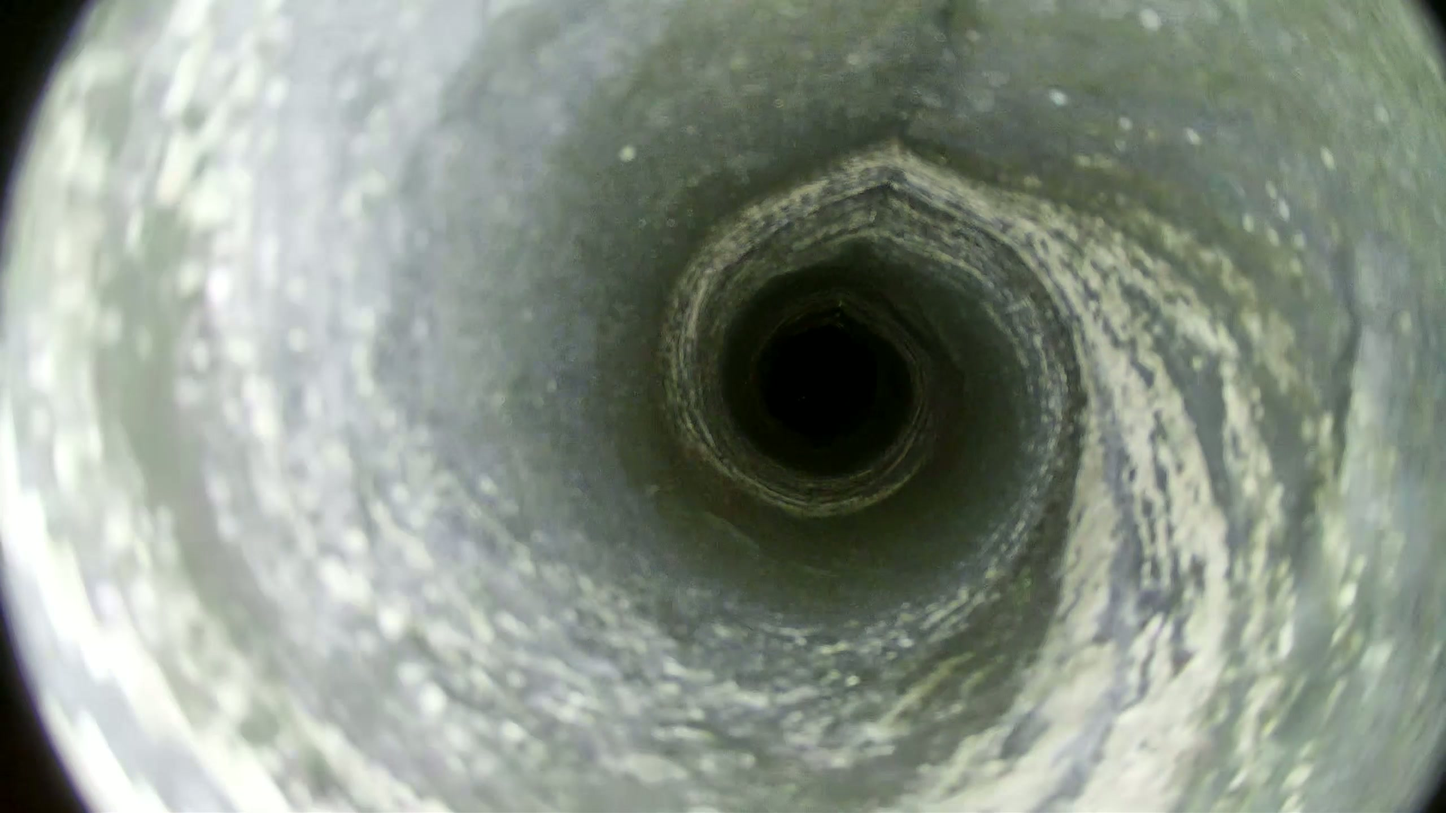hole: (765, 327, 876, 437)
